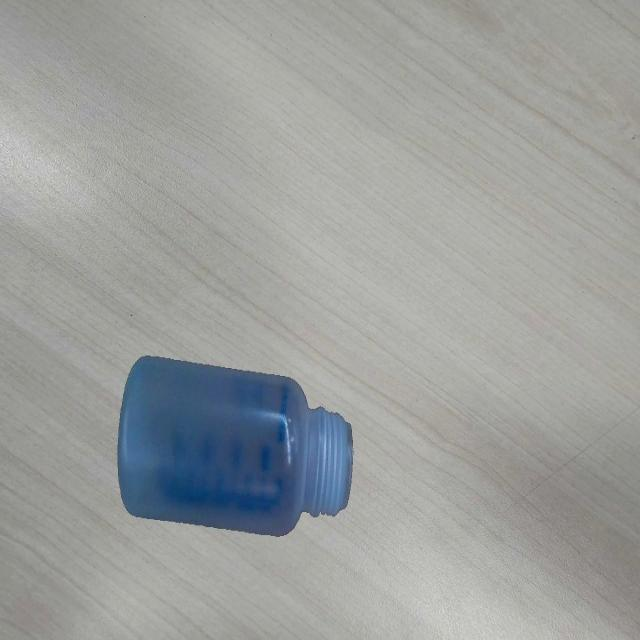bottle: (117, 351, 355, 538)
